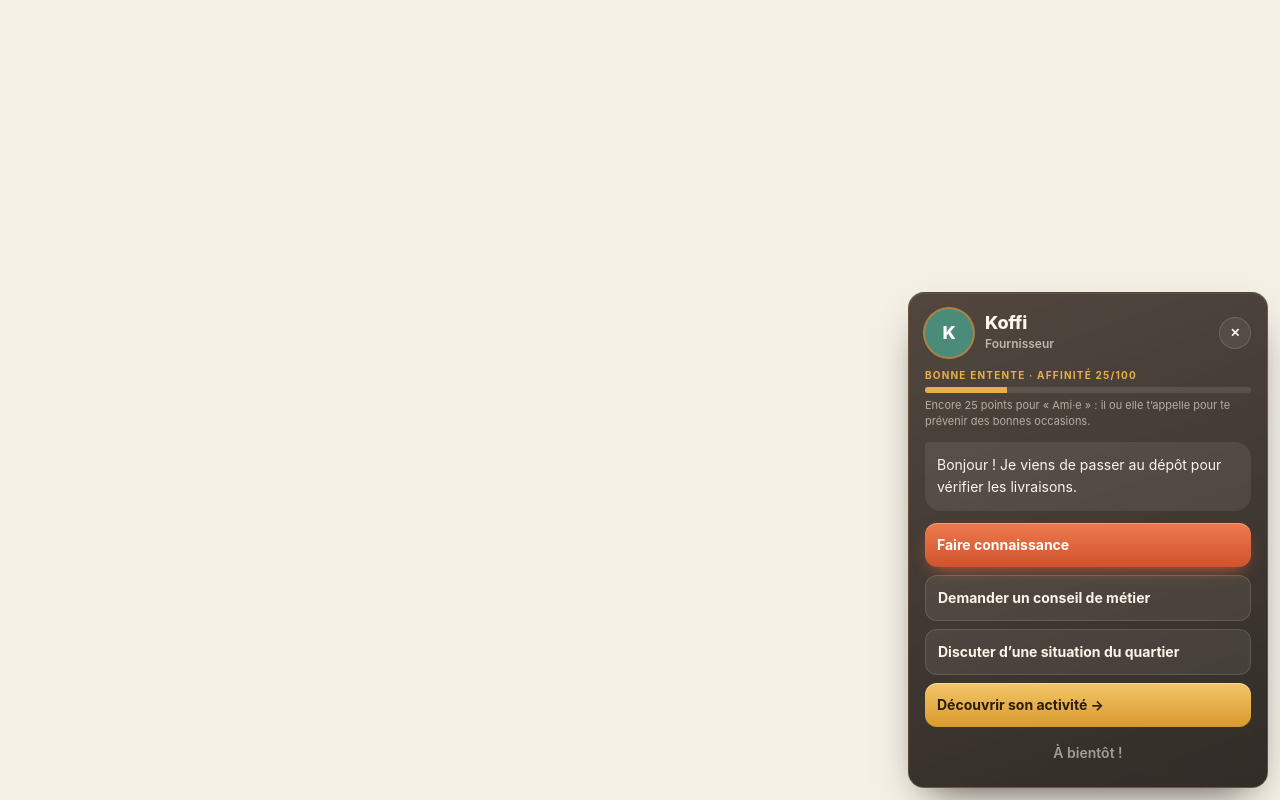
it: la conversation avec un habitant › partage un conseil de métier en bonne entente
The image size is (1280, 800).
Step 1. Click the button "Demander un conseil de métier" → click(1088, 598), box [925, 575, 1251, 621]
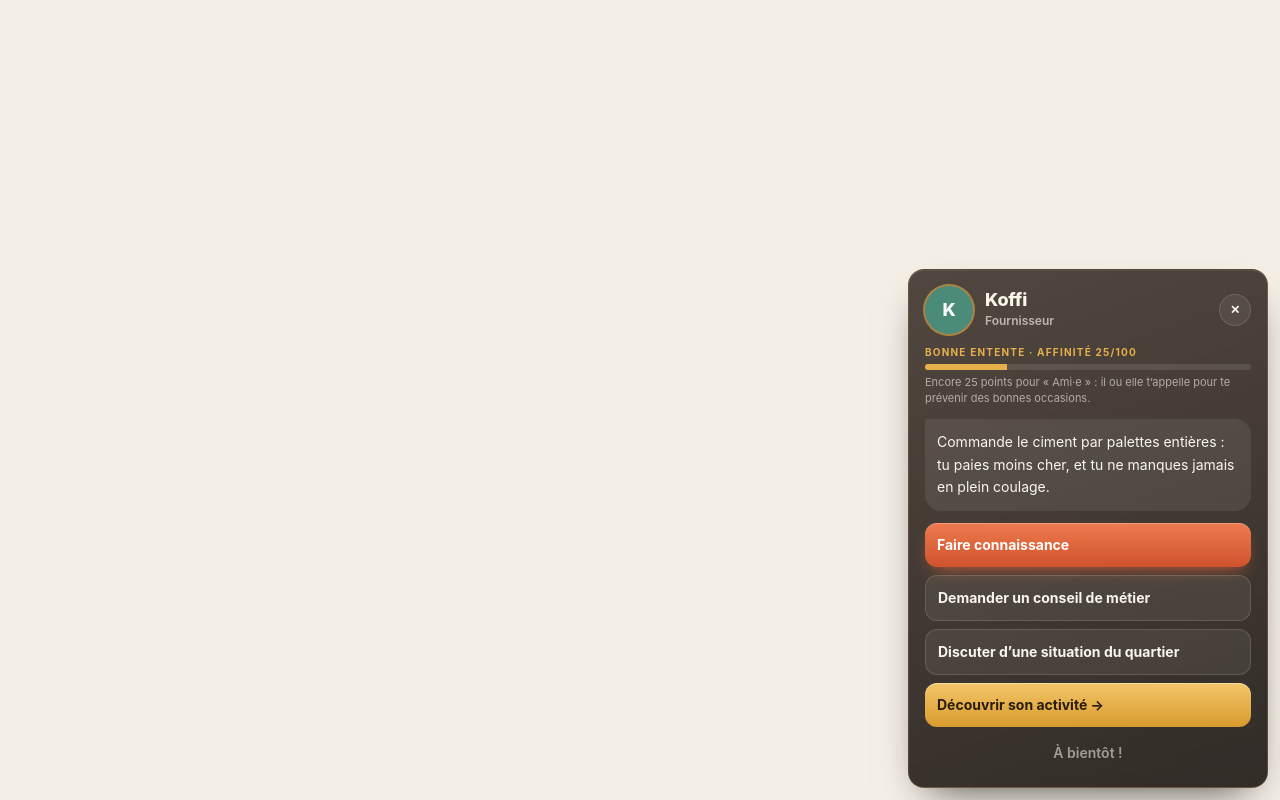
Result: the message shows "palettes entières" at [937, 433, 1234, 495]
